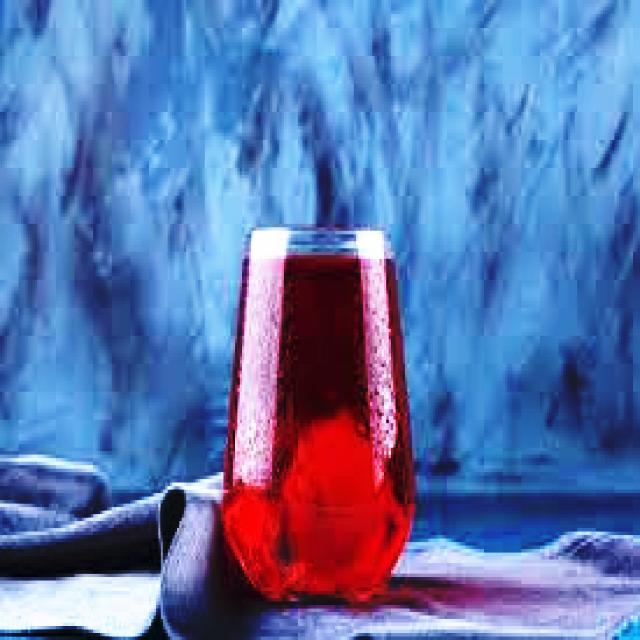drink: (221, 217, 424, 612)
